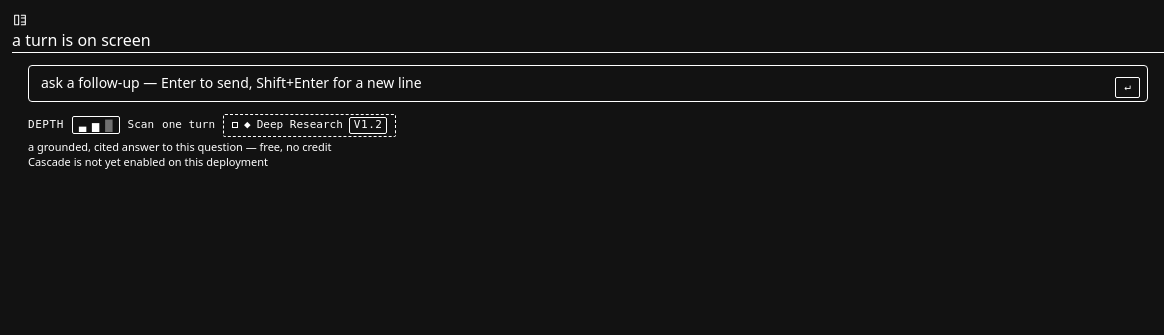
Test: TemplateLibrary: reachable in every state (D-UX-1) › opens from the top bar with a thread on screen, and lists every template by category
The width and height of the screenshot is (1164, 335).
Check: the text "a turn is on screen" is shown, box [12,29,151,51]
Click the button named "template library". click: (20, 20)
box: [12,12,28,28]
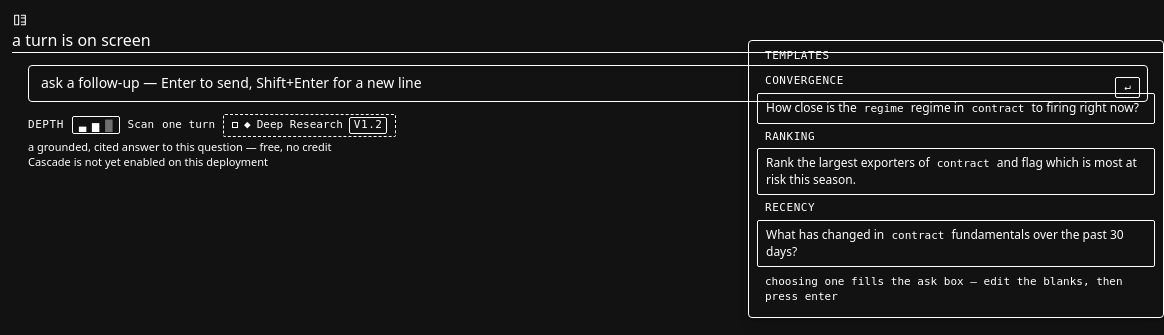
Check: the text "convergence" is shown, box [765,74,844,87]
Check: the text "ranking" is shown, box [765,130,815,142]
Check: the text "recency" is shown, box [765,201,815,214]
